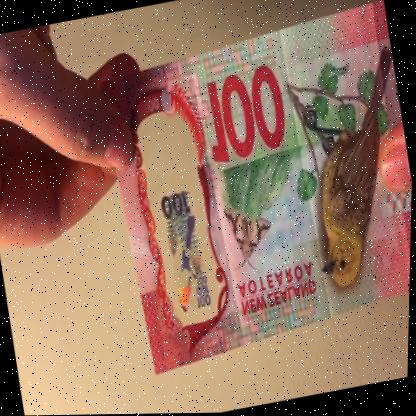100B: (145, 133, 220, 324)
